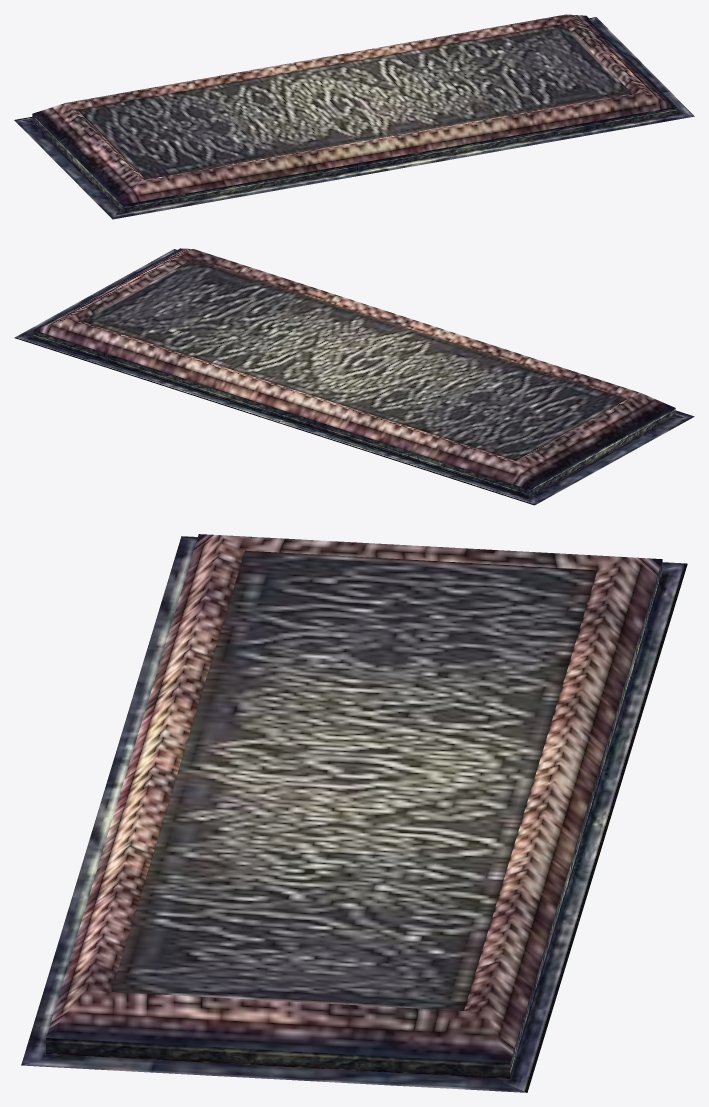
The model's file is tnhat10.obj.
3 renders of one model, top to bottom at view 1: azimuth 30°, elevation 25°; view 2: azimuth 150°, elevation 25°; view 3: azimuth 270°, elevation 25°, orthographic. The views are drawn at different scales.
Parts seen in each view (by area): view 1: tnhat10; view 2: tnhat10; view 3: tnhat10.
Boxes of the visible parts, box(x1,y1,x2,y2) form: tnhat10: box(14, 14, 694, 219); tnhat10: box(14, 248, 694, 505); tnhat10: box(21, 534, 687, 1092).
Size of the model in its own units: 90.93 by 3.11 by 46.02.
